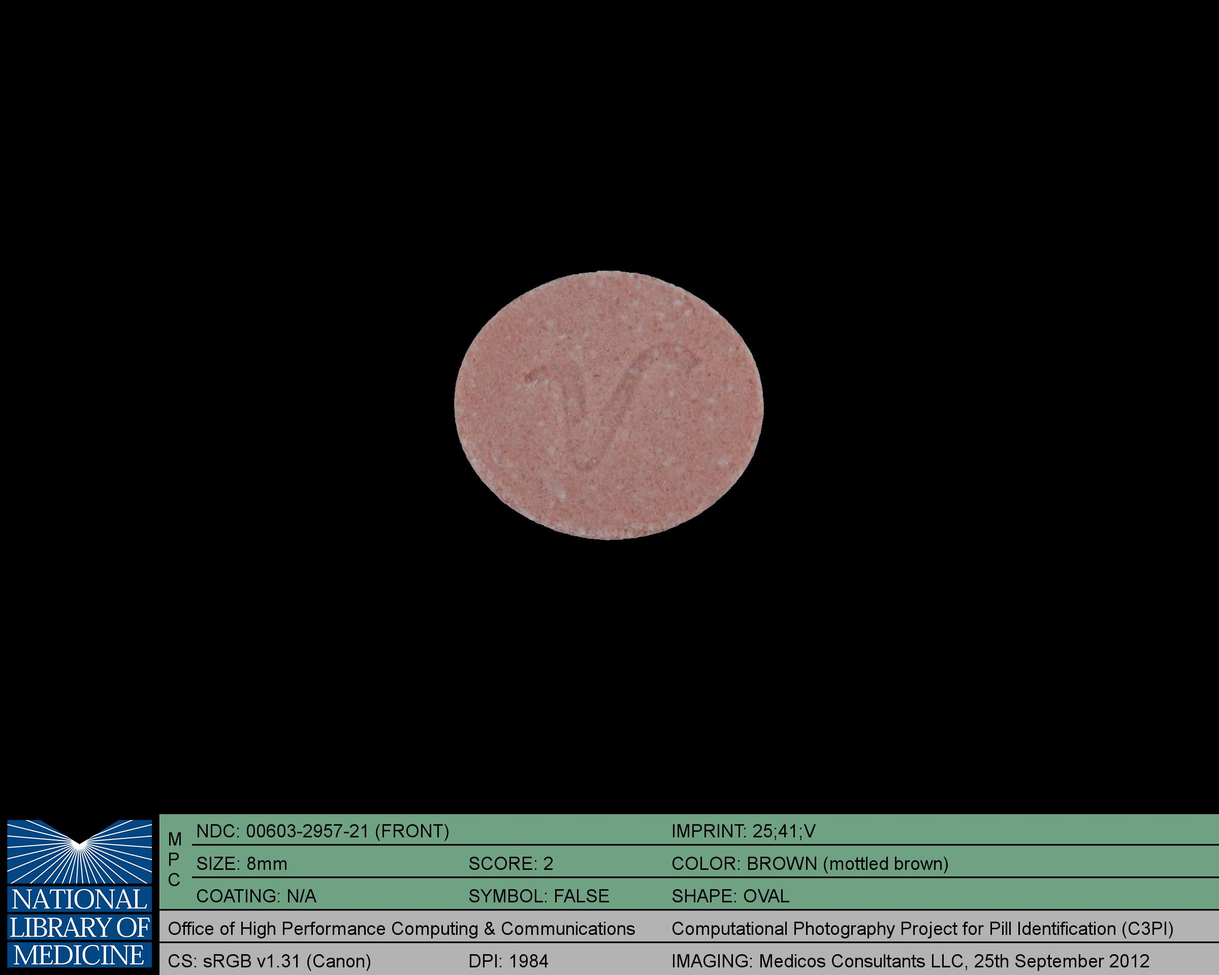Pill: (442, 259, 774, 550)
